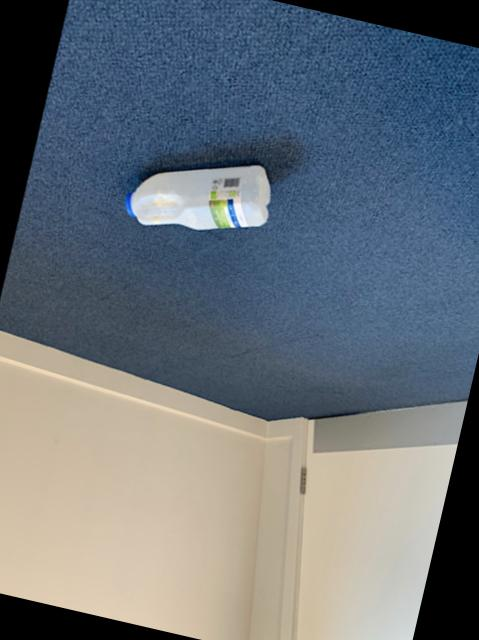plastic: (125, 166, 270, 230)
